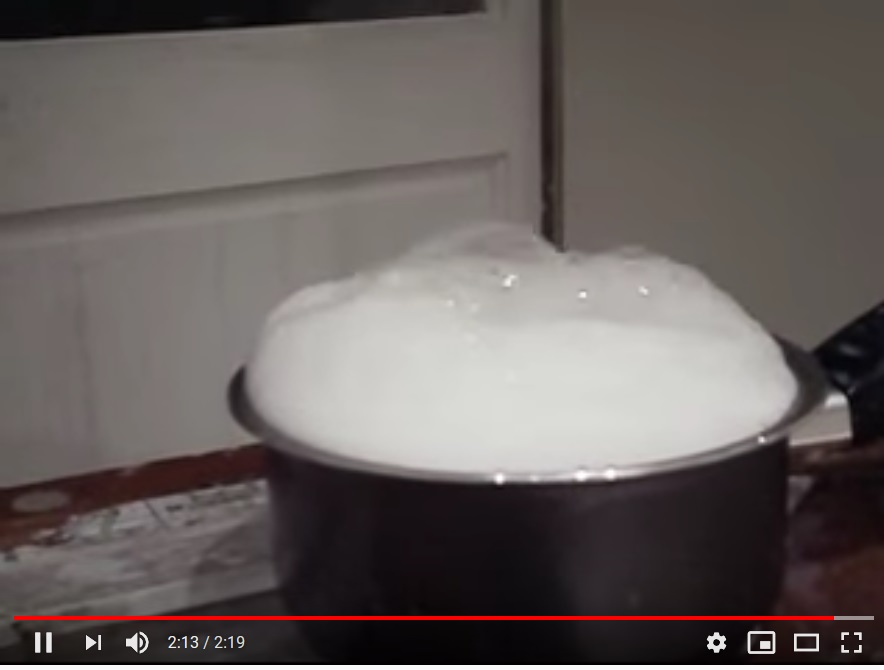Boiled: (219, 219, 835, 552)
